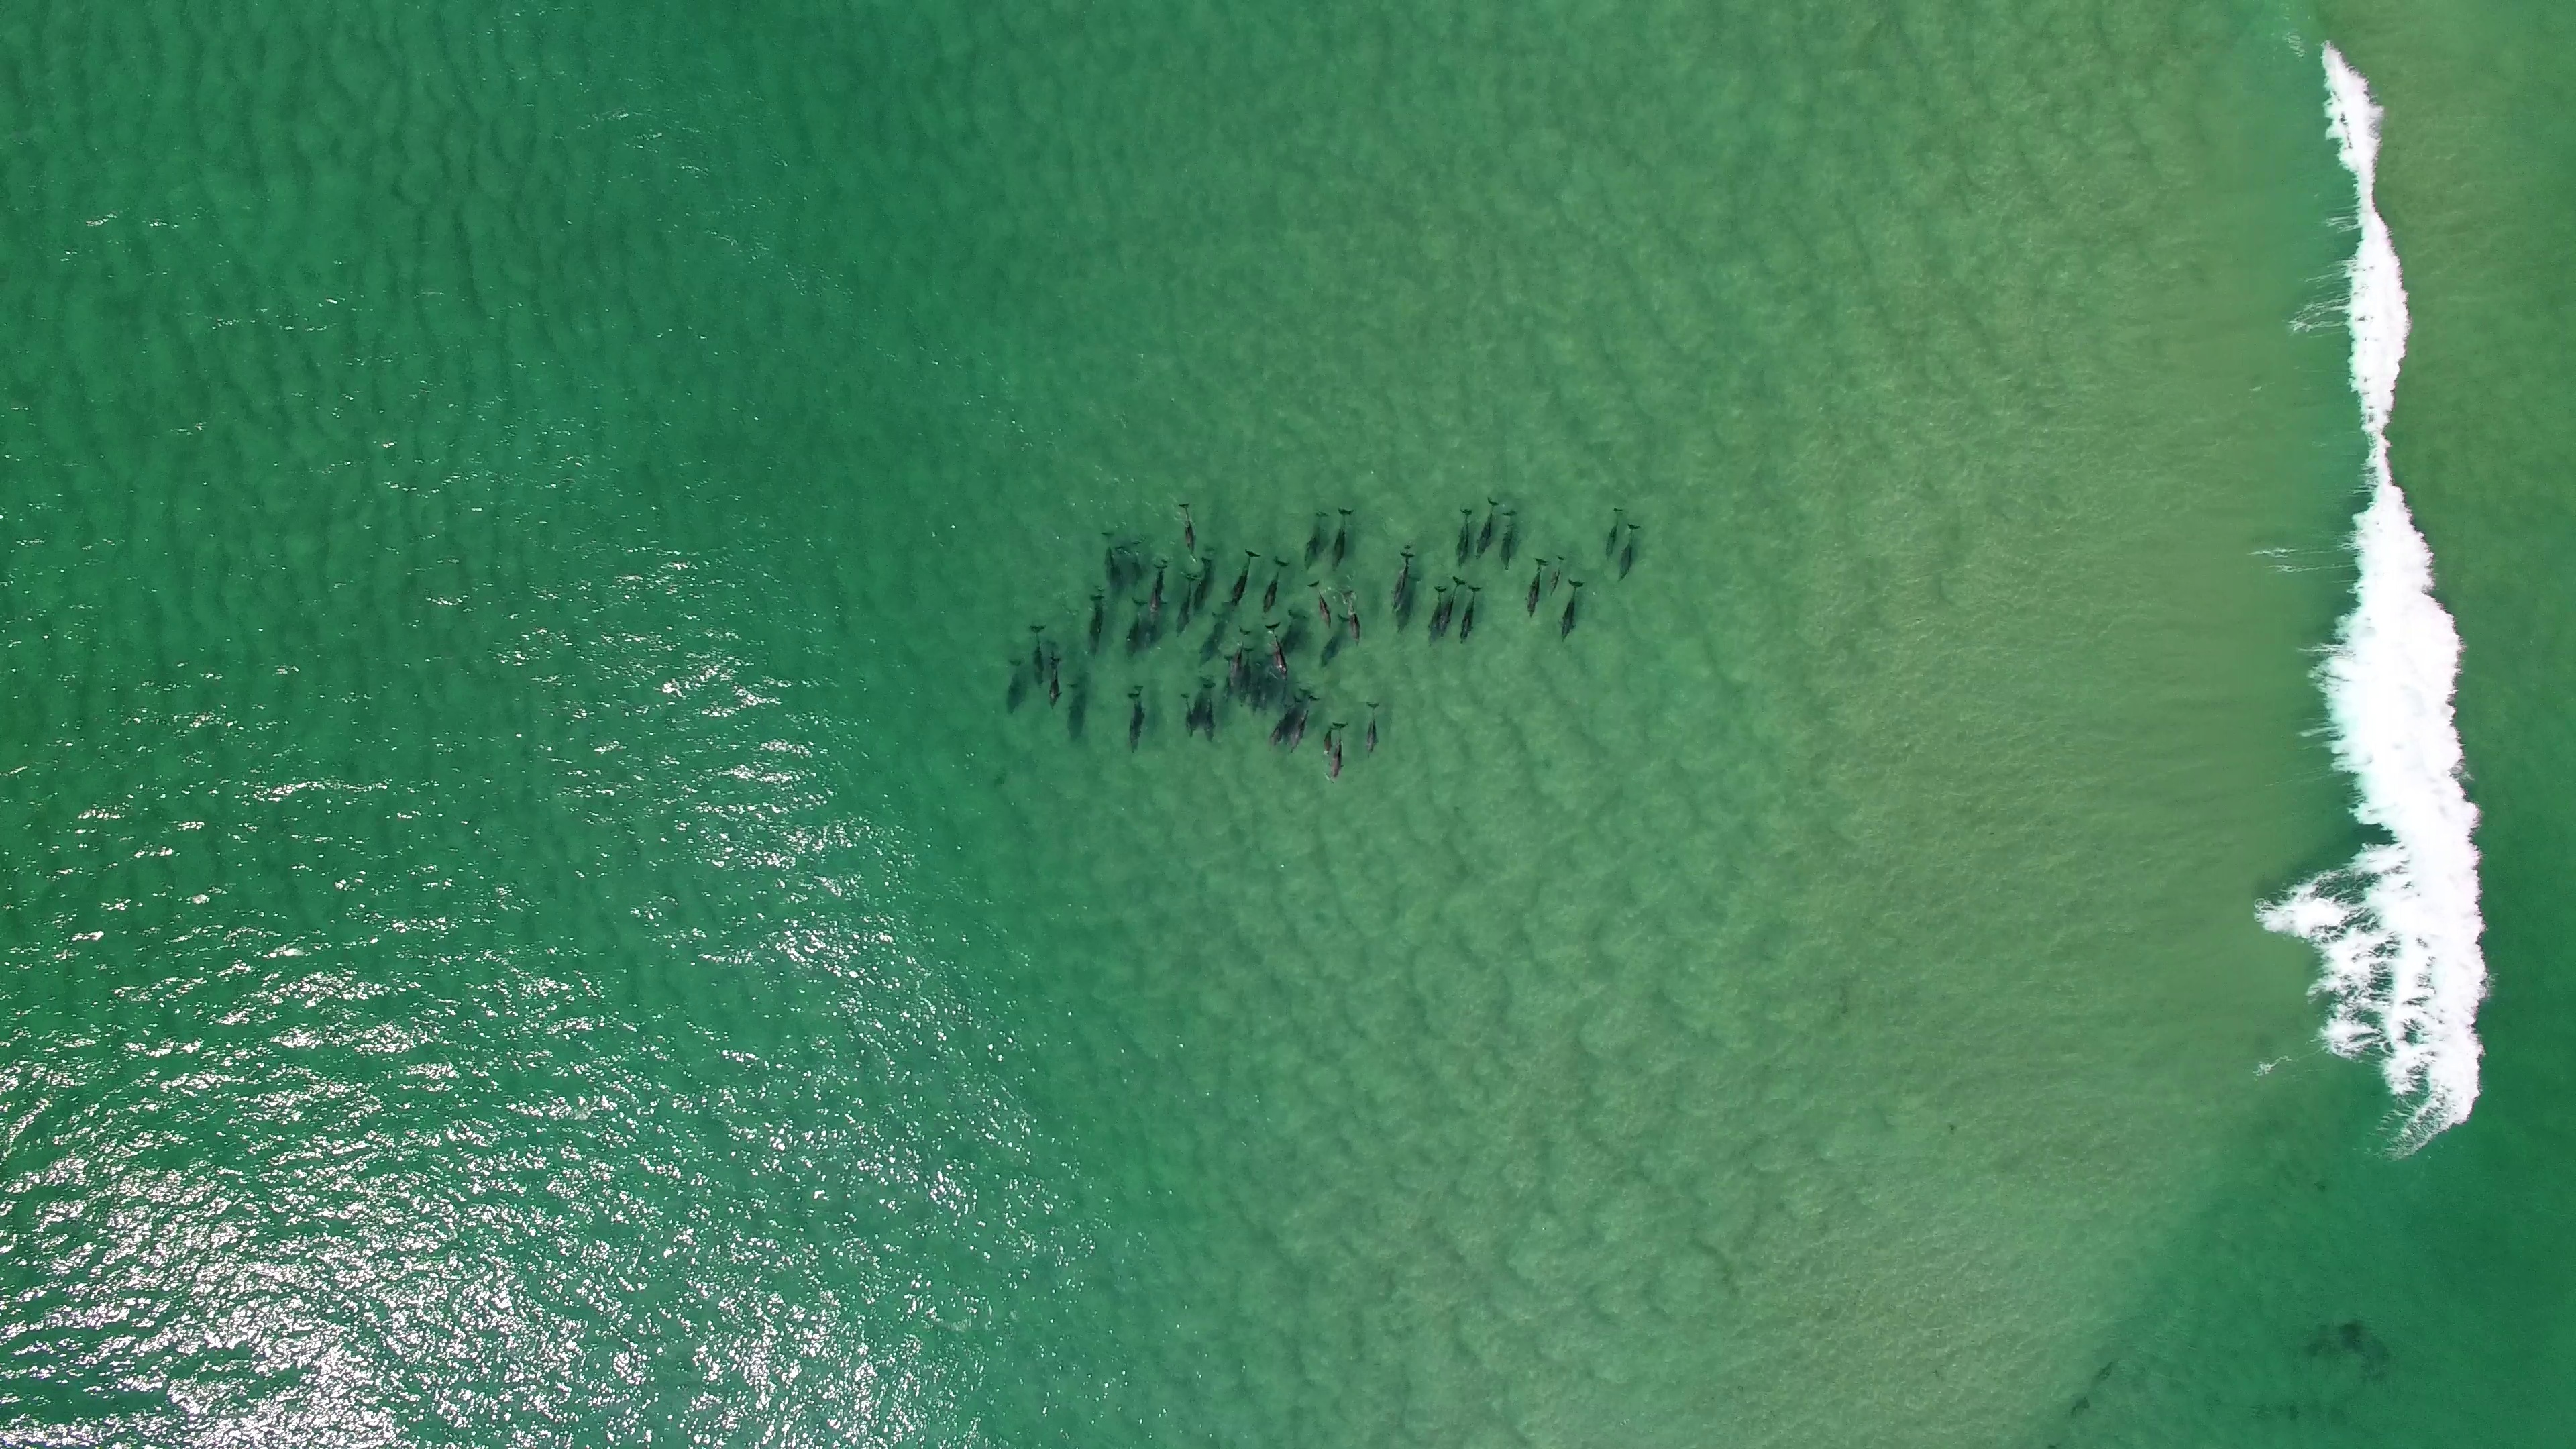dolphin: (1435, 575, 1468, 639), (1557, 579, 1589, 644), (1269, 694, 1302, 752), (1472, 495, 1499, 568), (1288, 692, 1318, 755), (1329, 506, 1357, 573), (1226, 623, 1251, 697), (1265, 612, 1302, 662), (1175, 570, 1201, 639), (1231, 545, 1258, 614), (1316, 614, 1352, 665), (1387, 547, 1415, 610), (1194, 545, 1219, 617), (1261, 625, 1292, 683), (1150, 556, 1171, 633), (1302, 506, 1327, 571), (1396, 571, 1422, 632), (1067, 674, 1092, 738), (1458, 582, 1483, 646), (1203, 607, 1230, 665), (1339, 591, 1366, 649), (1525, 552, 1548, 619), (1097, 529, 1122, 591), (1304, 582, 1336, 630), (1261, 557, 1288, 614), (1177, 502, 1201, 563), (1499, 506, 1520, 575), (1617, 520, 1640, 584), (1426, 584, 1447, 648), (1125, 596, 1146, 658), (1329, 715, 1348, 782), (1005, 655, 1024, 720), (1028, 621, 1047, 686), (1198, 678, 1217, 743), (1605, 501, 1626, 559), (1123, 538, 1146, 591), (1258, 658, 1279, 713), (1088, 591, 1104, 660), (1456, 506, 1474, 568), (1047, 655, 1065, 711), (1125, 692, 1141, 754), (1364, 699, 1380, 761), (1237, 648, 1254, 702), (1177, 690, 1196, 738), (1548, 552, 1566, 596), (1132, 685, 1145, 736), (1323, 718, 1338, 761)
